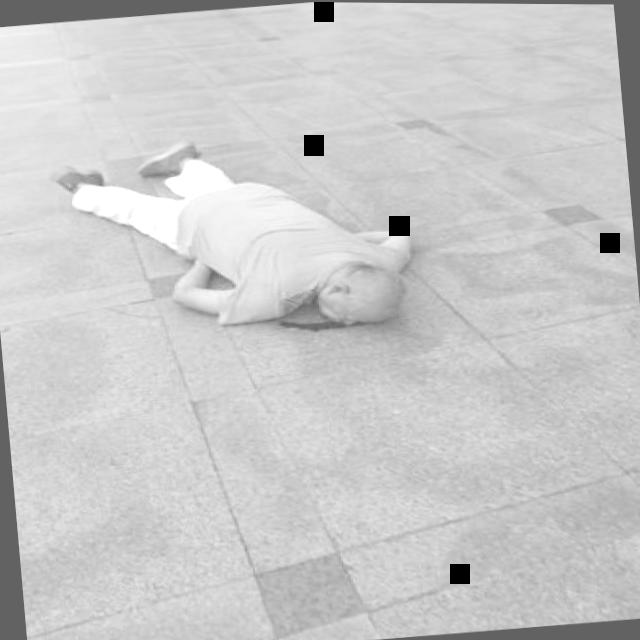Fall-Detected: (37, 87, 436, 367)
